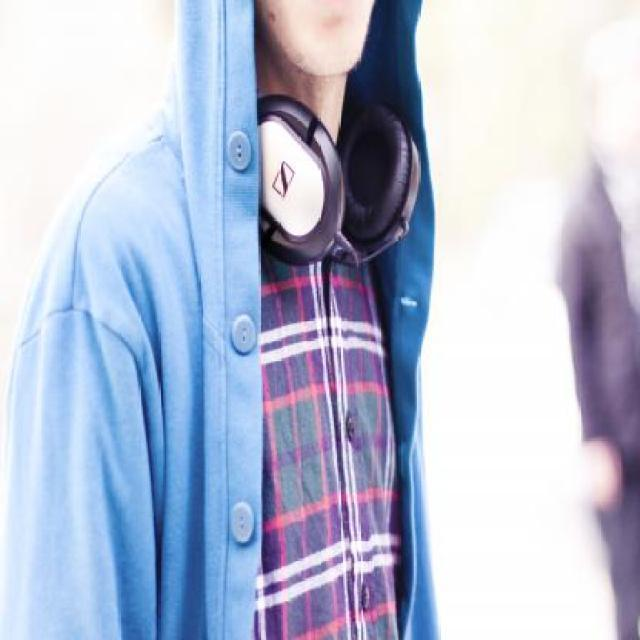earphone: (244, 85, 448, 268)
